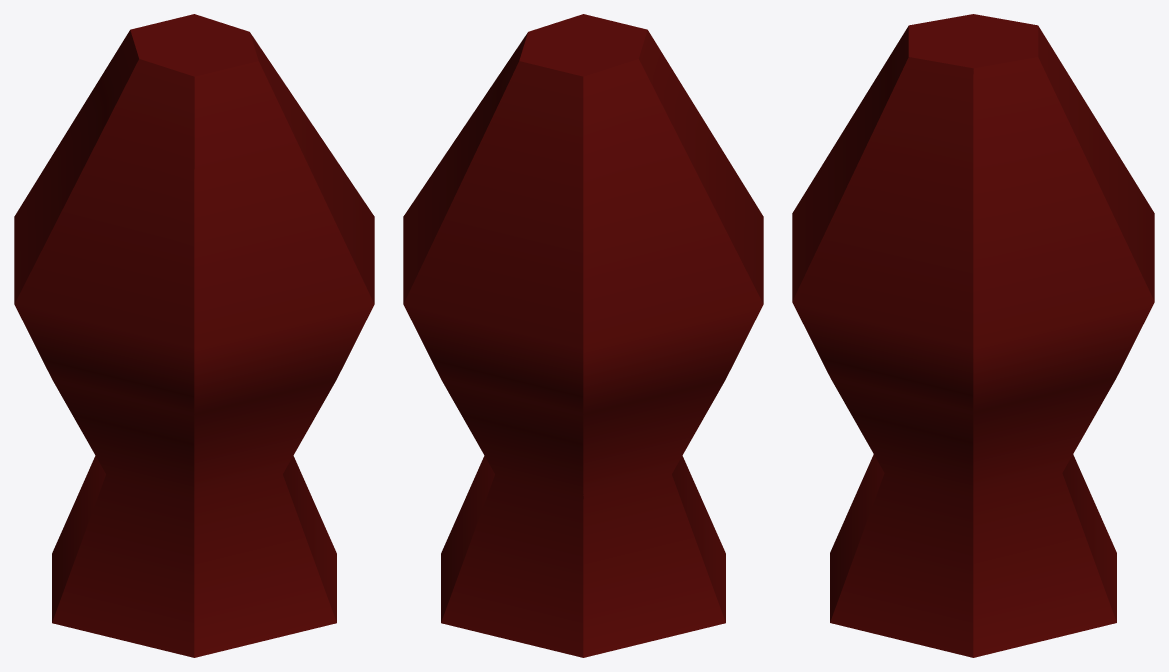
File: proyectil grave.fbx
3 views of the same model, side by side, from view 1: azimuth 30°, elevation 25°; view 2: azimuth 150°, elevation 25°; view 3: azimuth 270°, elevation 25° (orthographic).
Visible parts, largest first — view 1: pCylinder2; view 2: pCylinder2; view 3: pCylinder2.
Part boxes in pixels (x1,y1,x2,y2): pCylinder2: (14, 14, 374, 657); pCylinder2: (403, 14, 763, 657); pCylinder2: (792, 14, 1154, 657).
Bounding box in the file's own units: 2.22 × 3.2 × 1.92.
